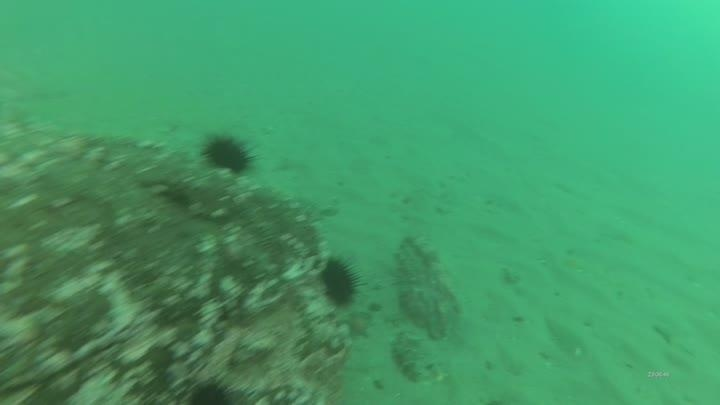echinus: (316, 253, 363, 310), (200, 131, 257, 176), (166, 379, 263, 405)
holothurian: (388, 325, 429, 386)
starfish: (341, 308, 376, 342)
